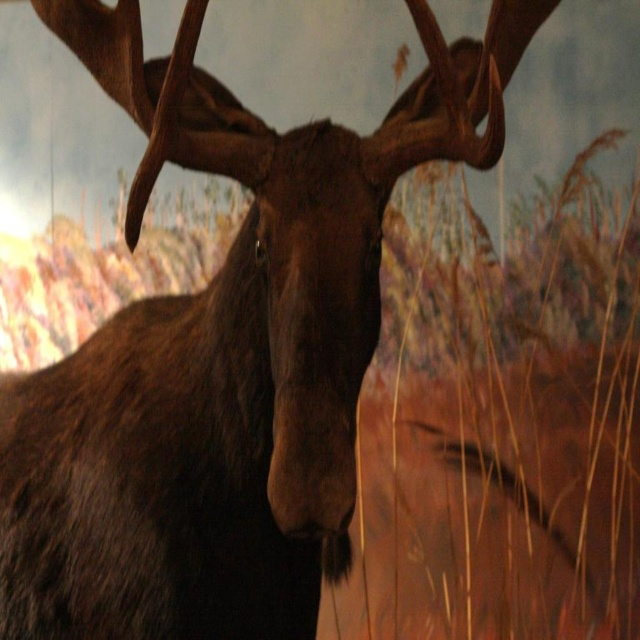Deer: (0, 0, 561, 639)
